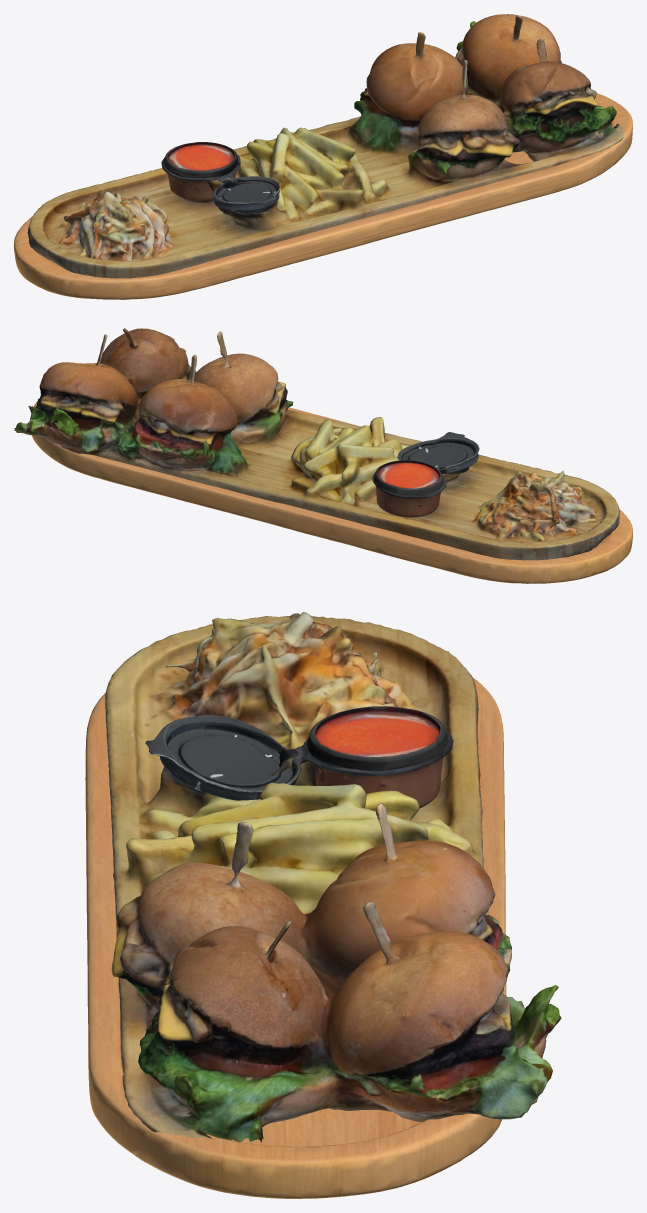
Rendered from burger.gharch4.rose.glb.
The picture shows the model from 3 angles, top to bottom: view 1: azimuth 30°, elevation 25°; view 2: azimuth 150°, elevation 25°; view 3: azimuth 270°, elevation 25°; orthographic projection. The views are drawn at different scales.
Visible parts, largest first — view 1: 3DModel, Mesh_0, Mesh_0.002; view 2: 3DModel, Mesh_0, Mesh_0.002; view 3: 3DModel, Mesh_0, Mesh_0.002.
Boxes of the visible parts, left/top/right/bottom form: 3DModel: left=27, top=14, right=623, bottom=278; Mesh_0: left=14, top=93, right=632, bottom=299; Mesh_0.002: left=161, top=142, right=280, bottom=210; 3DModel: left=14, top=328, right=619, bottom=560; Mesh_0: left=32, top=401, right=632, bottom=583; Mesh_0.002: left=372, top=432, right=479, bottom=517; 3DModel: left=105, top=612, right=561, bottom=1142; Mesh_0: left=85, top=678, right=506, bottom=1198; Mesh_0.002: left=145, top=706, right=453, bottom=808.
Size of the model in its own units: 0.4673 by 0.0995 by 0.1674.
3 materials, 3 textured.
